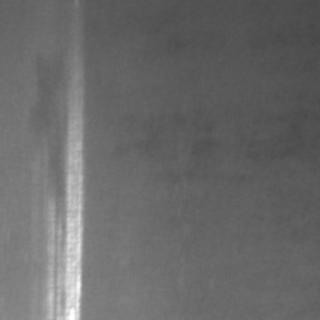scratches: (43, 69, 81, 317)
